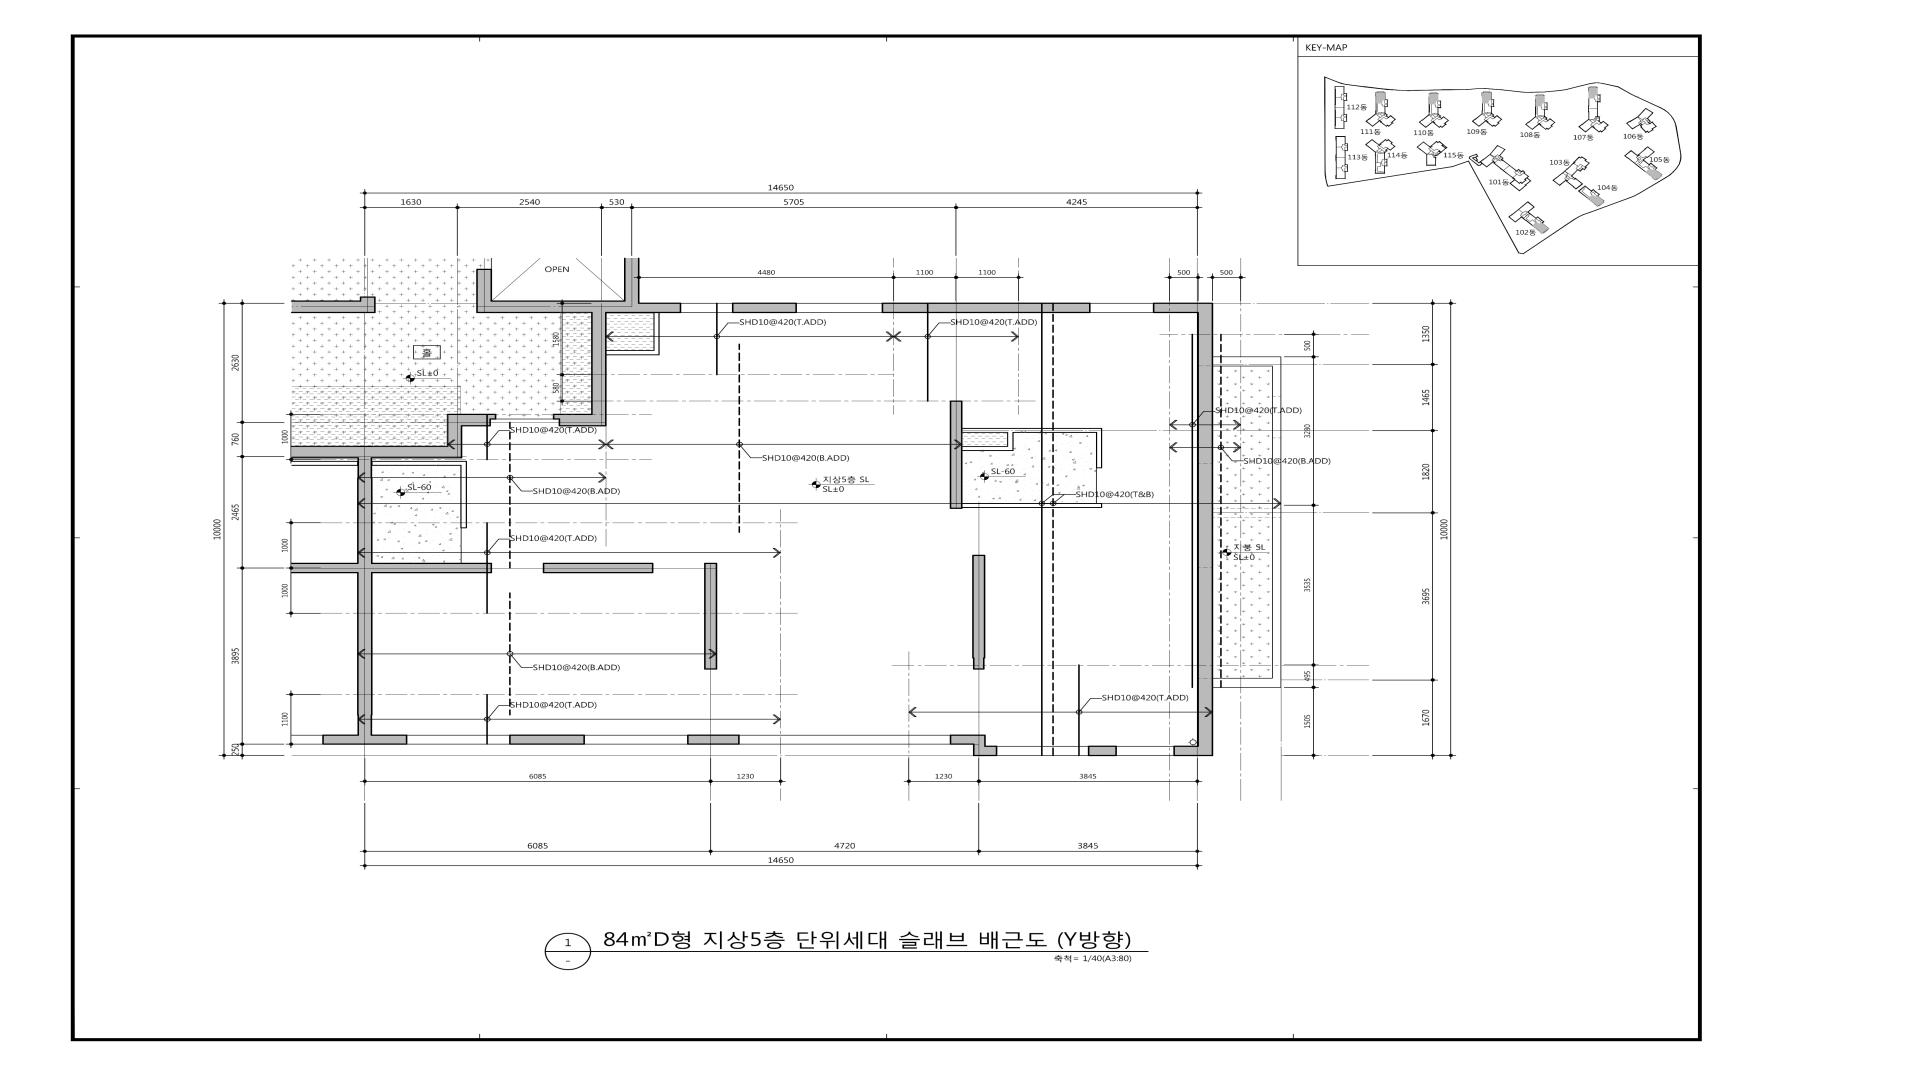wall: (1197, 302, 1213, 745), (357, 459, 373, 745), (290, 446, 463, 459), (492, 301, 682, 313), (882, 302, 1091, 313), (591, 314, 607, 426), (972, 555, 985, 670), (949, 401, 963, 509), (704, 563, 717, 670), (373, 563, 492, 574), (543, 563, 654, 574), (291, 301, 360, 313), (509, 735, 585, 745), (476, 269, 492, 313), (624, 257, 640, 301), (732, 302, 796, 313), (687, 735, 740, 745), (447, 414, 463, 446), (1153, 302, 1197, 313), (553, 414, 591, 426), (1174, 745, 1213, 756), (463, 414, 496, 426), (372, 735, 407, 745), (1088, 745, 1117, 756), (973, 735, 986, 756), (949, 735, 973, 745), (360, 297, 376, 313), (986, 745, 997, 756)
